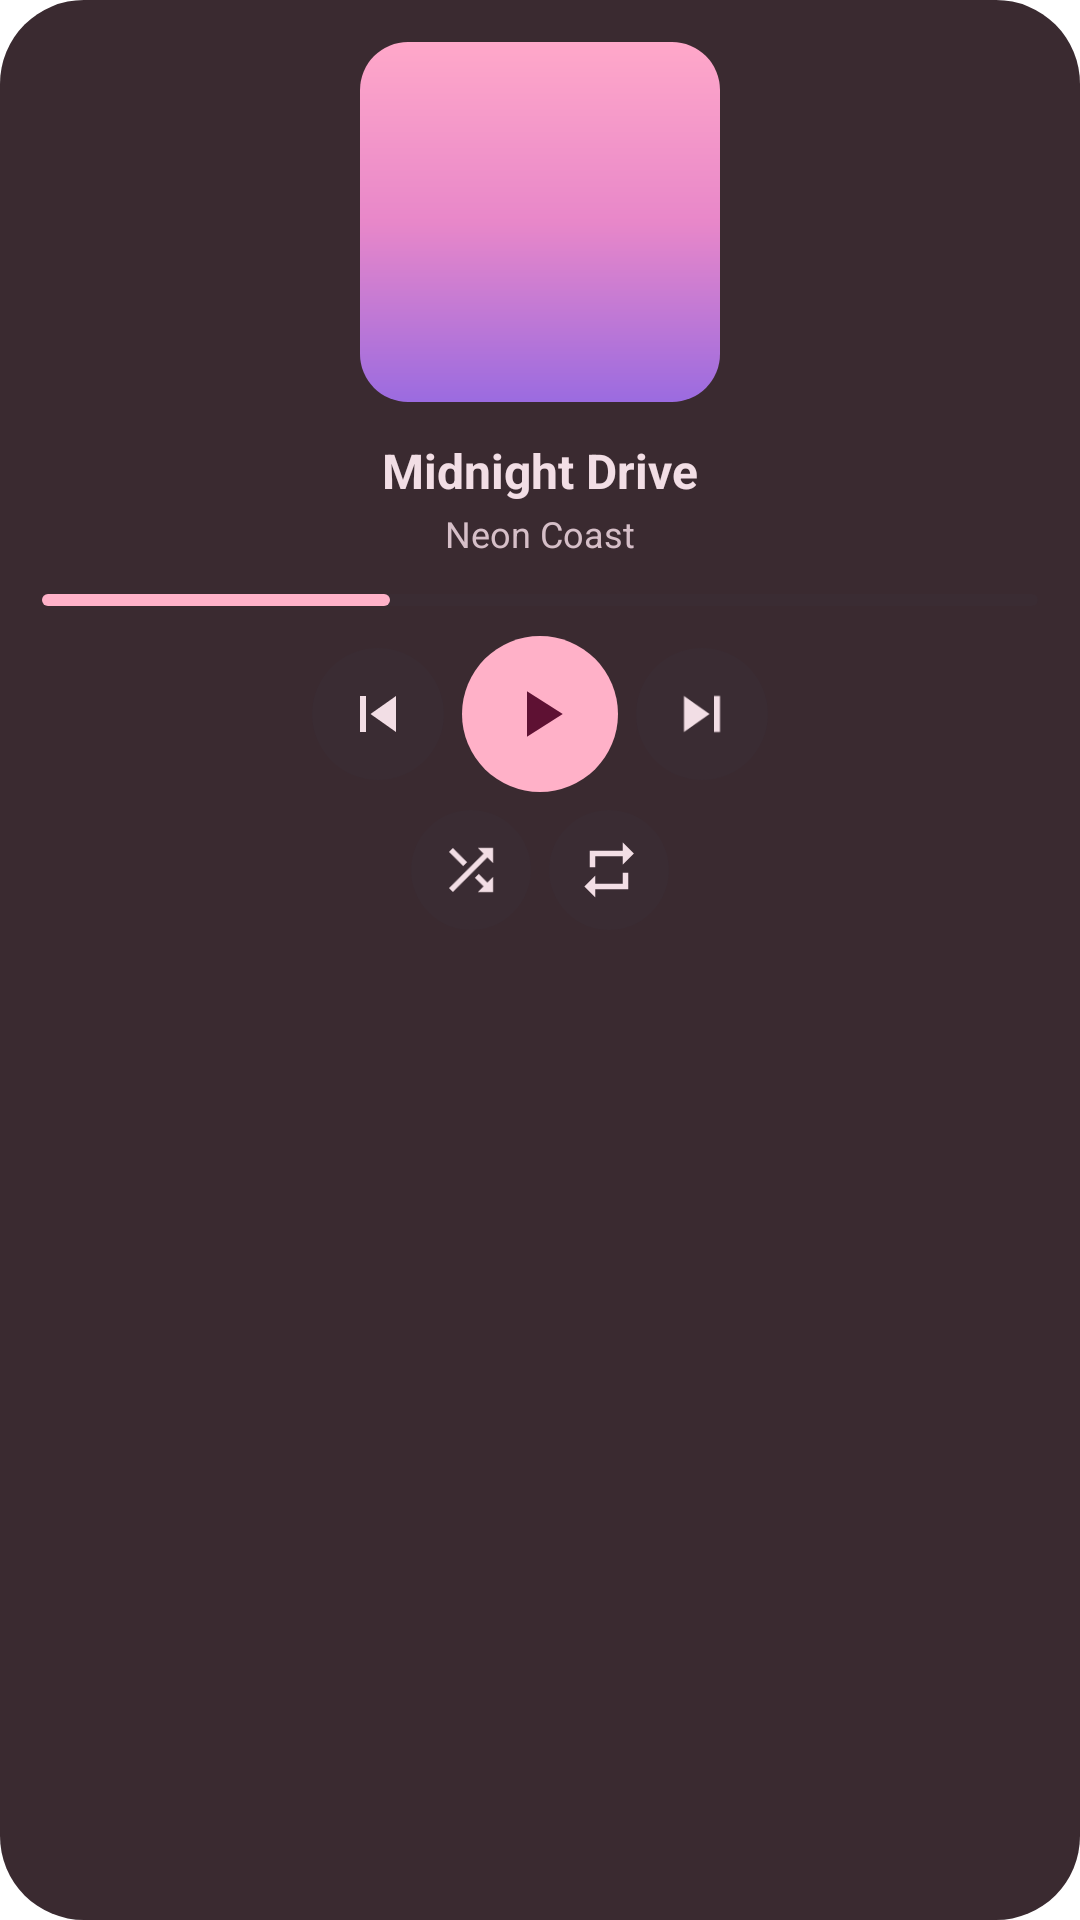

Locate icon controls on the screen. Image size 1080*1920, boxes as (x1, y1, x2, y2).
Next: (683, 695, 721, 733)
Play: (527, 691, 563, 737)
Previous: (360, 696, 396, 732)
Repeat: (584, 843, 634, 897)
Shuffle: (449, 847, 494, 893)
